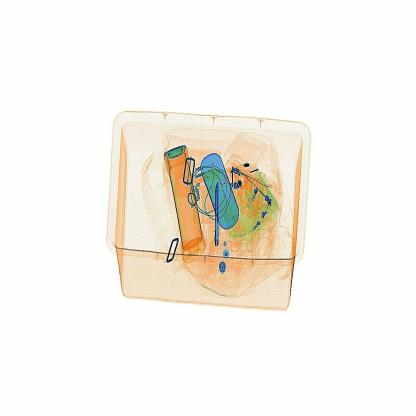pliers: (202, 179, 227, 255)
